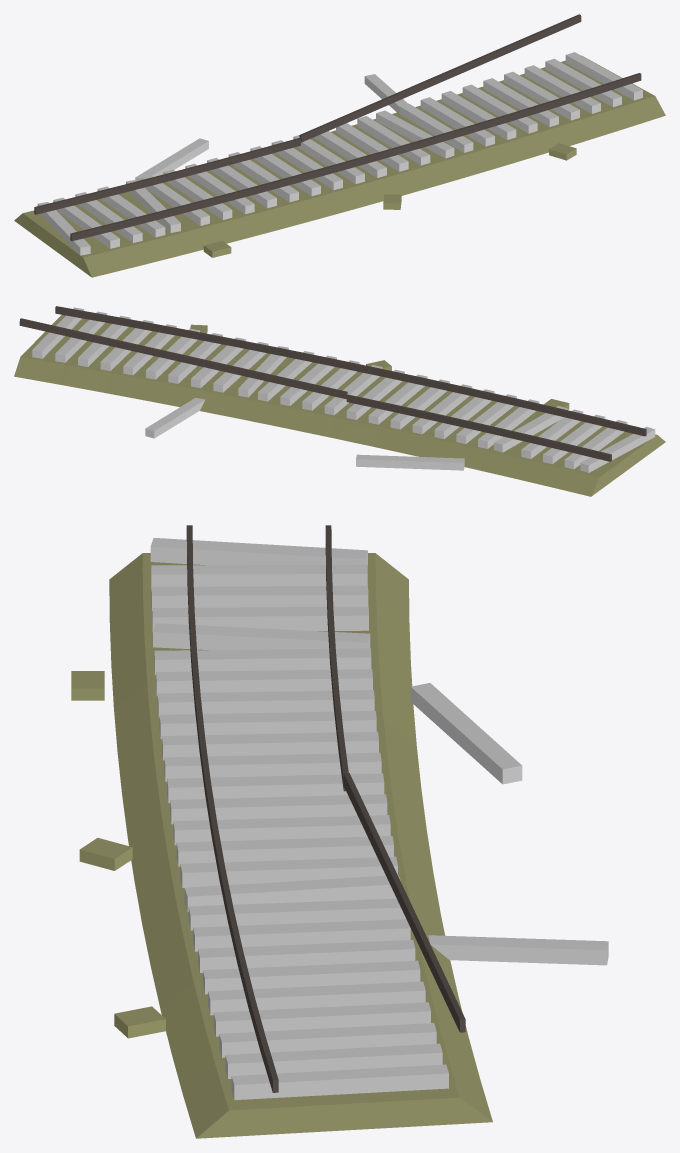
Rendered from SM_Via_CurvaR120_v4_Danada_LOD0.fbx.
3 renders of one model, top to bottom at view 1: azimuth 30°, elevation 25°; view 2: azimuth 150°, elevation 25°; view 3: azimuth 270°, elevation 25°, orthographic. The views are drawn at different scales.
Parts seen in each view (by area): view 1: SM_via_trazado_v19_LOD0; view 2: SM_via_trazado_v19_LOD0; view 3: SM_via_trazado_v19_LOD0.
Part boxes in pixels (x1,y1,x2,y2): SM_via_trazado_v19_LOD0: [14, 14, 665, 277]; SM_via_trazado_v19_LOD0: [14, 306, 665, 496]; SM_via_trazado_v19_LOD0: [71, 525, 608, 1138].
Bounding box in the file's own units: 15.91 × 1.38 × 6.46.
